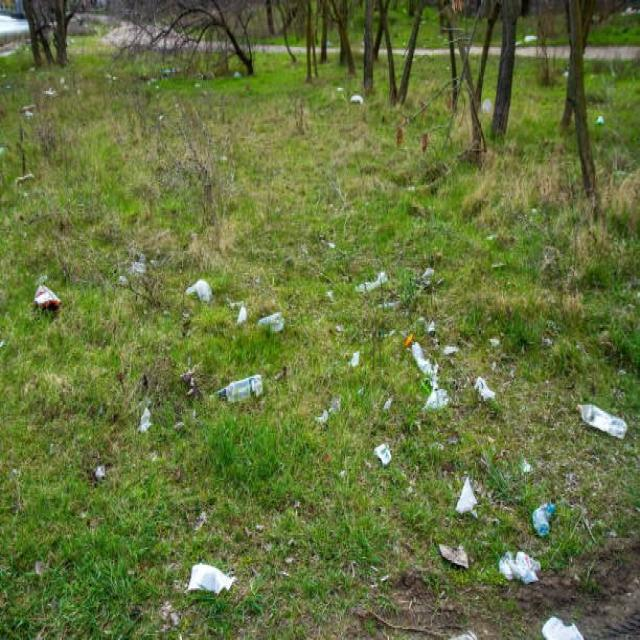glass: (213, 379, 270, 402)
plastic: (573, 397, 629, 445)
